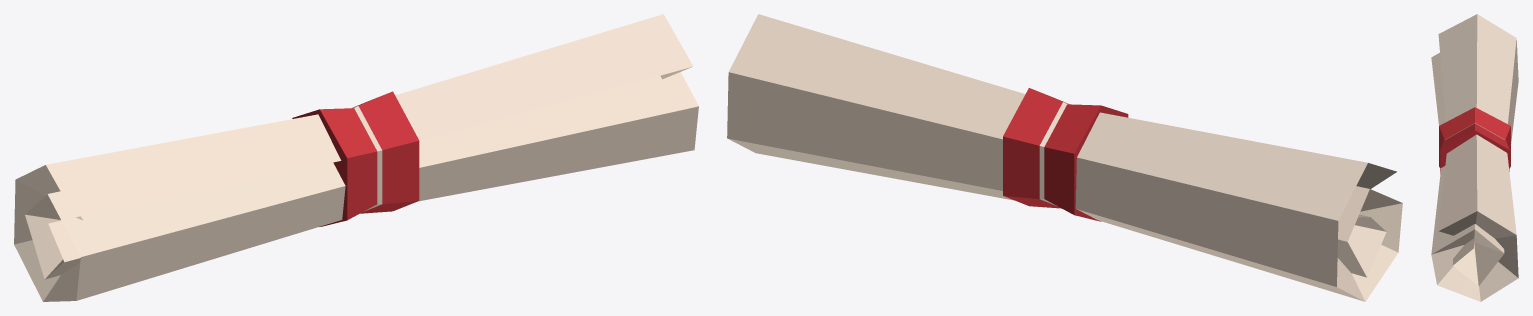
The model's file is fantasy_scroll.fbx.
3 renders of one model, left to right at view 1: azimuth 30°, elevation 25°; view 2: azimuth 150°, elevation 25°; view 3: azimuth 270°, elevation 25°, orthographic. The views are drawn at different scales.
Visible parts, largest first — view 1: fantasy_scroll; view 2: fantasy_scroll; view 3: fantasy_scroll.
Part boxes in pixels (x1,y1,x2,y2): fantasy_scroll: (14,14,698,301); fantasy_scroll: (727,14,1402,301); fantasy_scroll: (1431,14,1518,301).
Bounding box in the file's own units: 200 × 43.02 × 37.46.
